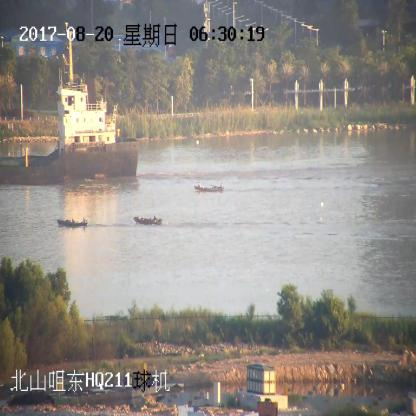Fishing Boat: (134, 214, 161, 227), (57, 217, 88, 228), (196, 181, 224, 193)
